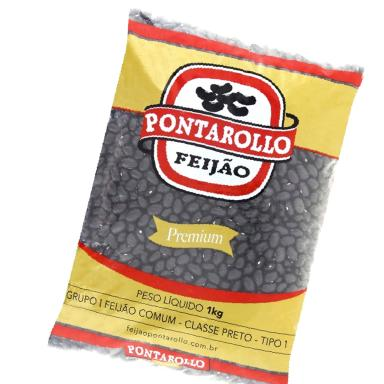beans package: (50, 11, 361, 383)
